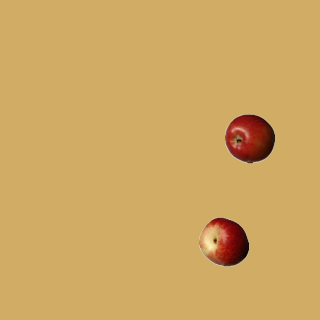Apple Braeburn: (224, 113, 274, 163)
Nectarine: (198, 216, 248, 266)
